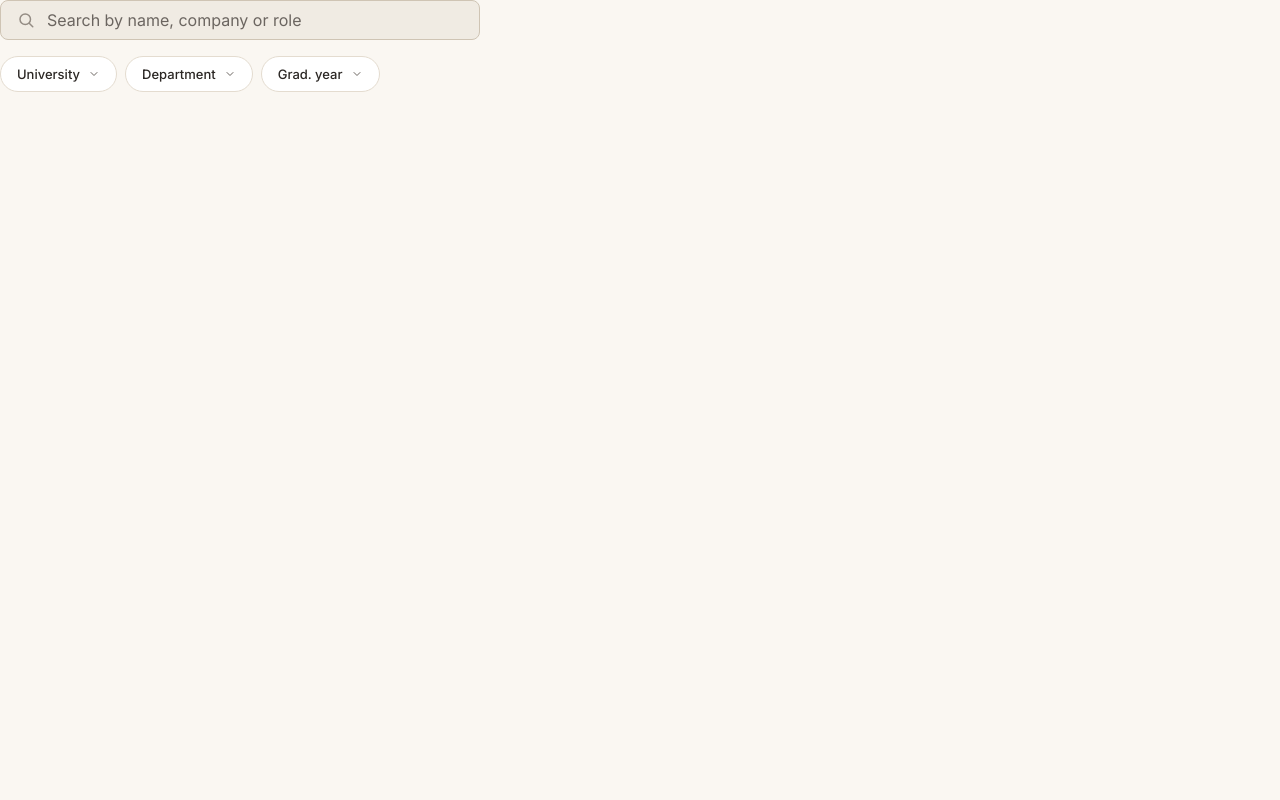
FilterBar › sets Department with Enter: URL, chip, page reset and focus on the chip remove button
The width and height of the screenshot is (1280, 800).
Click the button "Department". click: (189, 74)
box: [125,56,253,92]
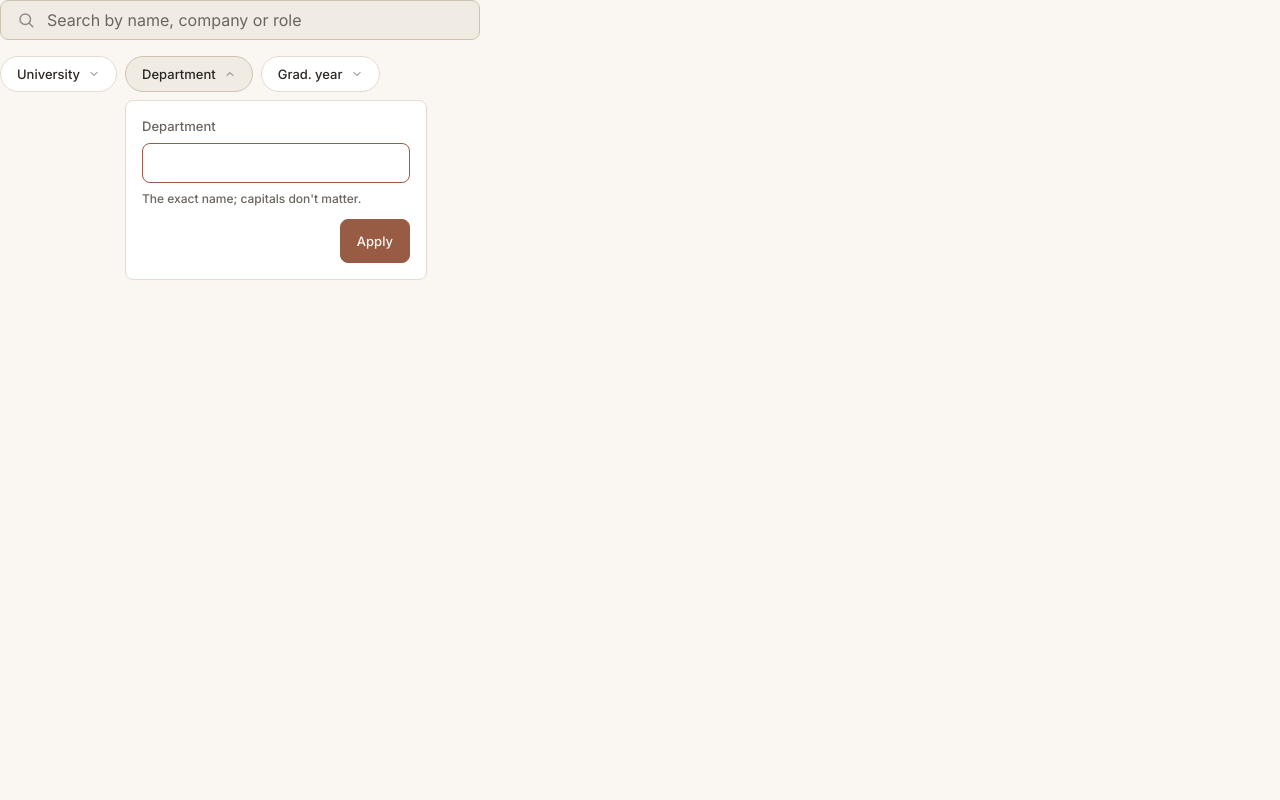
Type "Computer Science" into the field labelled "Department". click: (276, 163)
box: [142,143,410,183]
Then press Enter
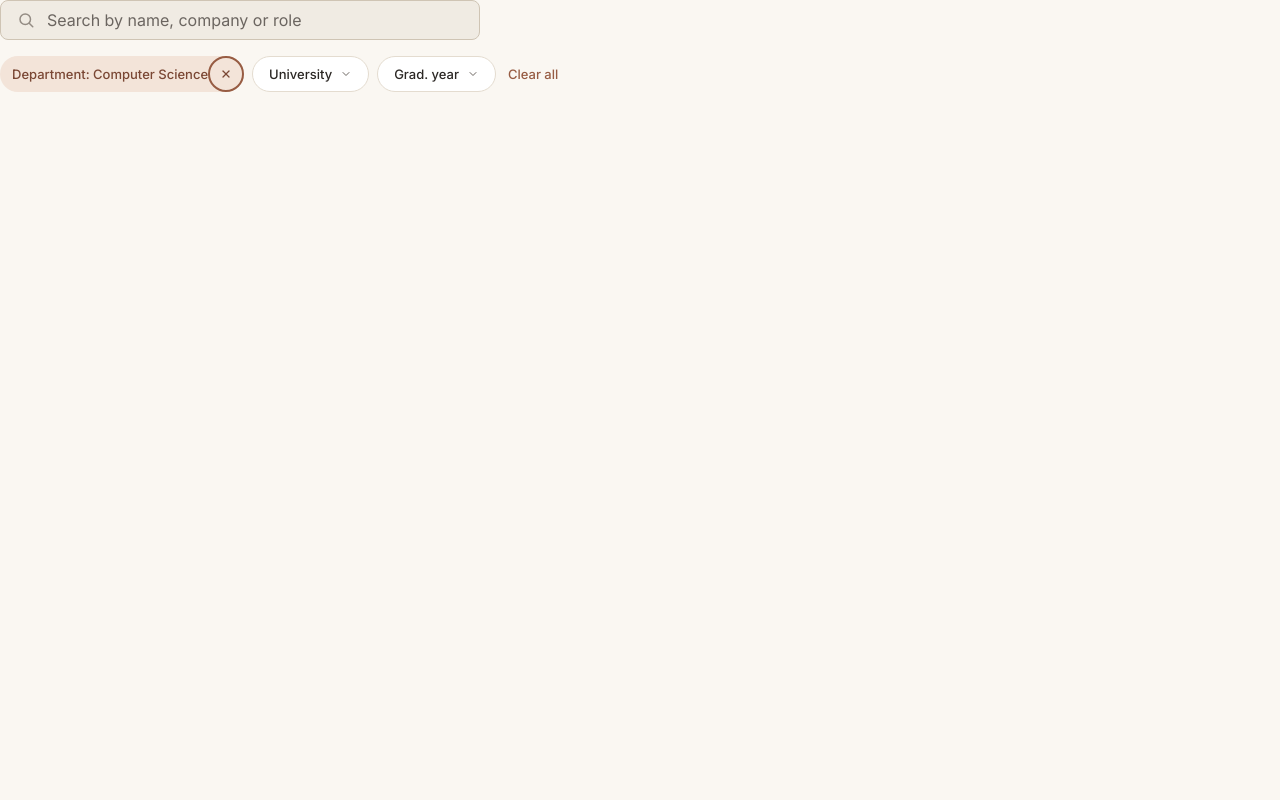
Result: the dialog is gone
